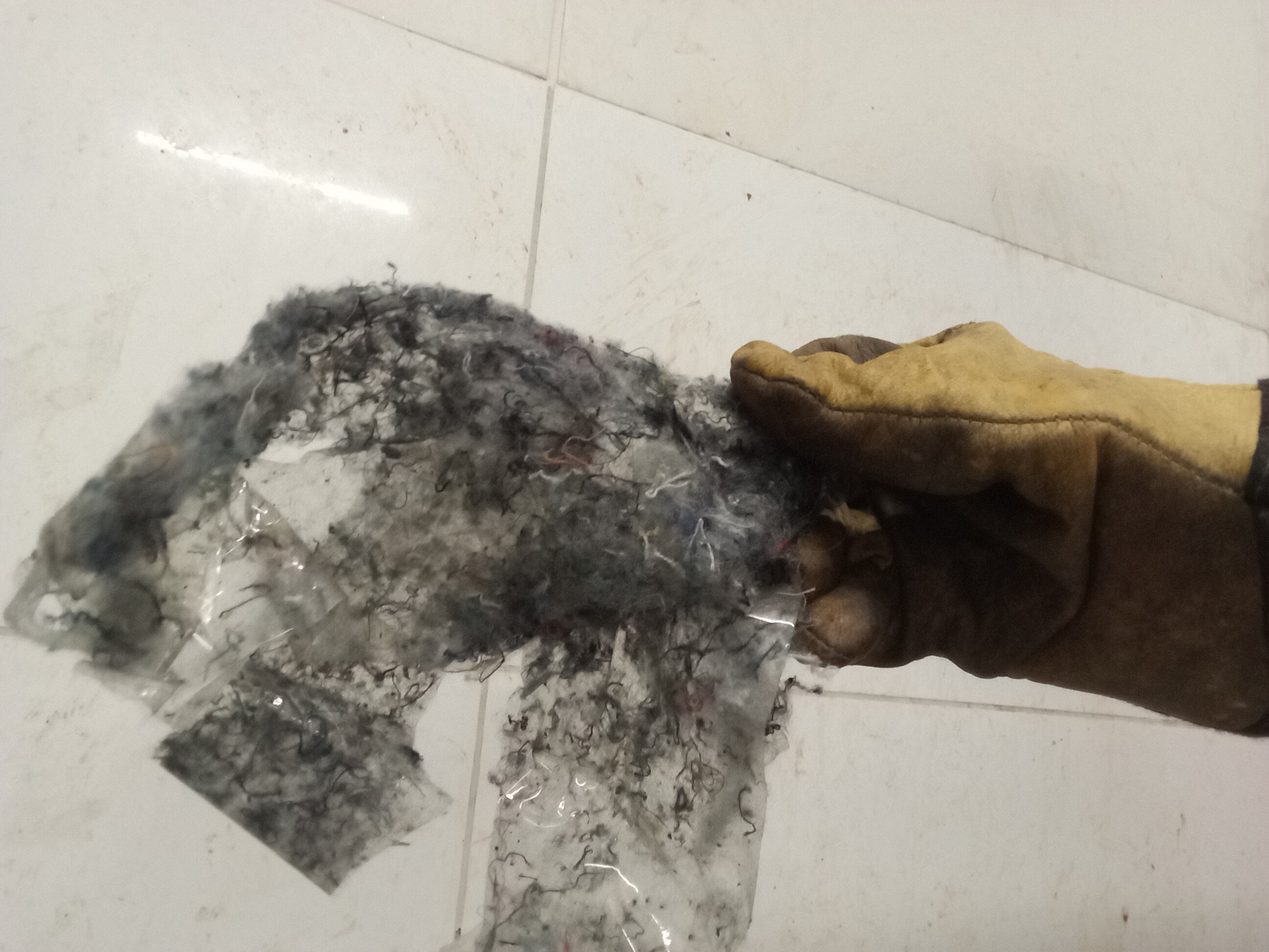Ordinario: (1, 281, 815, 952)
